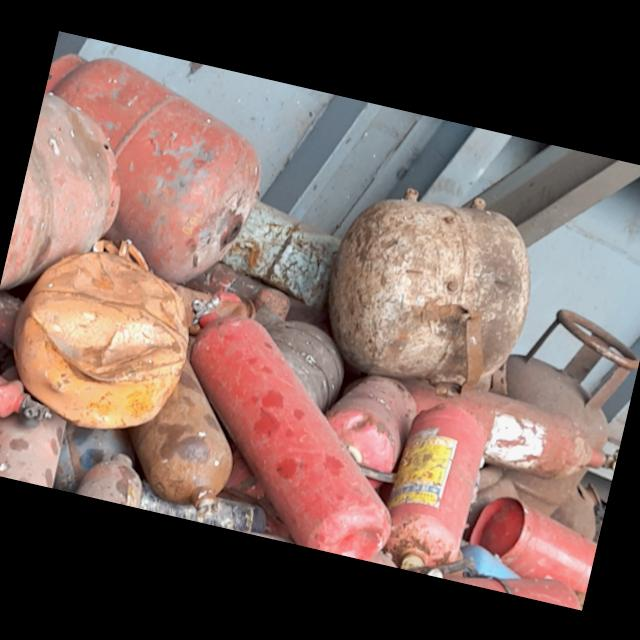Cylinders: (324, 188, 531, 372), (502, 311, 640, 458)
